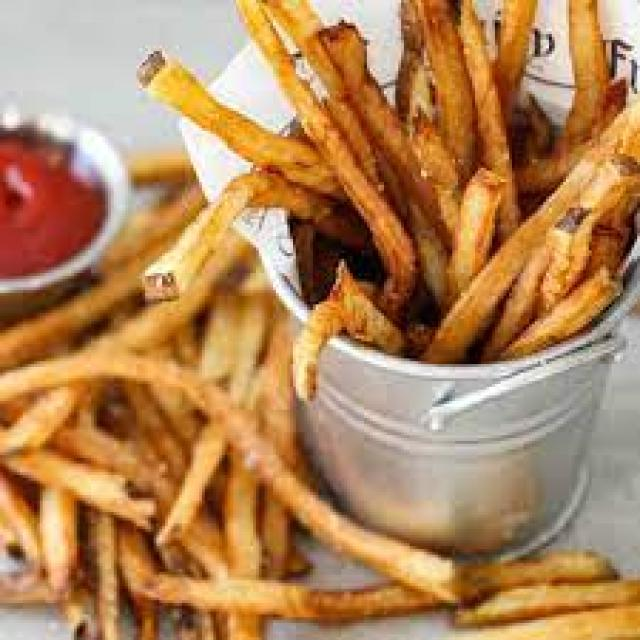감자튀김: (216, 21, 636, 373), (1, 153, 288, 640)
